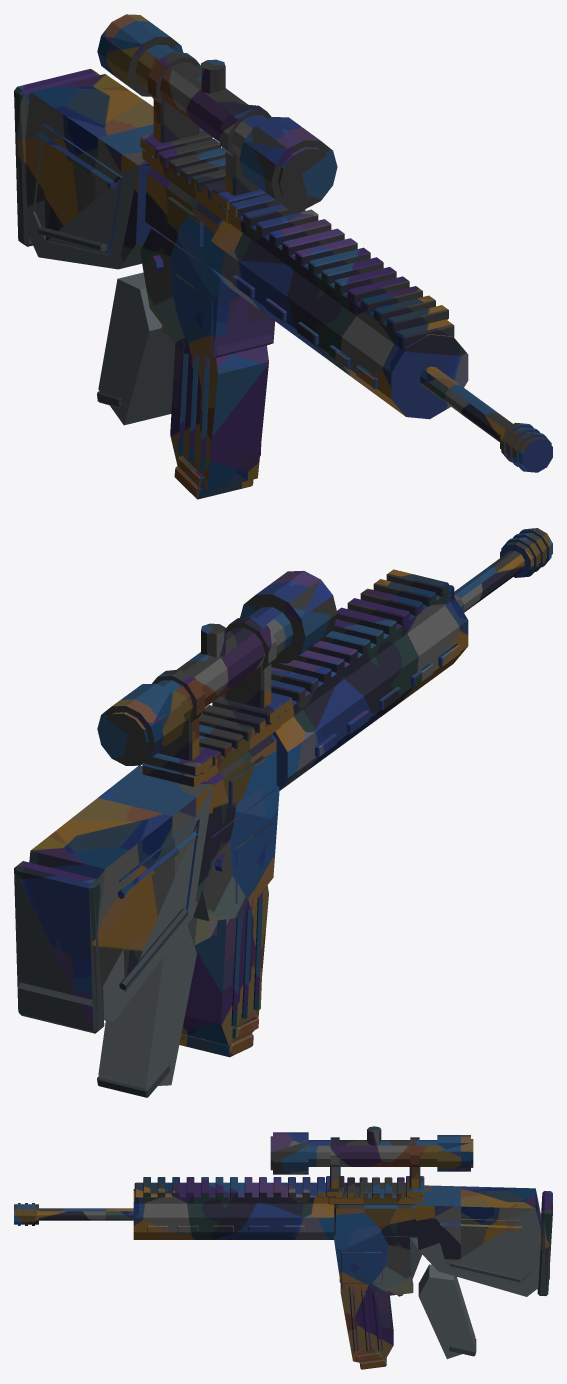
The model's file is AR15_HardenedSteel.glb.
3 renders of one model, top to bottom at view 1: azimuth 30°, elevation 25°; view 2: azimuth 150°, elevation 25°; view 3: azimuth 270°, elevation 25°, orthographic. The views are drawn at different scales.
Visible parts, largest first — view 1: StaticVisual; view 2: StaticVisual; view 3: StaticVisual.
Boxes of the visible parts, x1,y1,x2,y2 form: StaticVisual: (14, 14, 552, 499); StaticVisual: (14, 528, 552, 1097); StaticVisual: (14, 1126, 552, 1369).
Bounding box in the file's own units: 0.1581 × 0.7246 × 1.52.
Materials: 6 (1 with a texture image).
